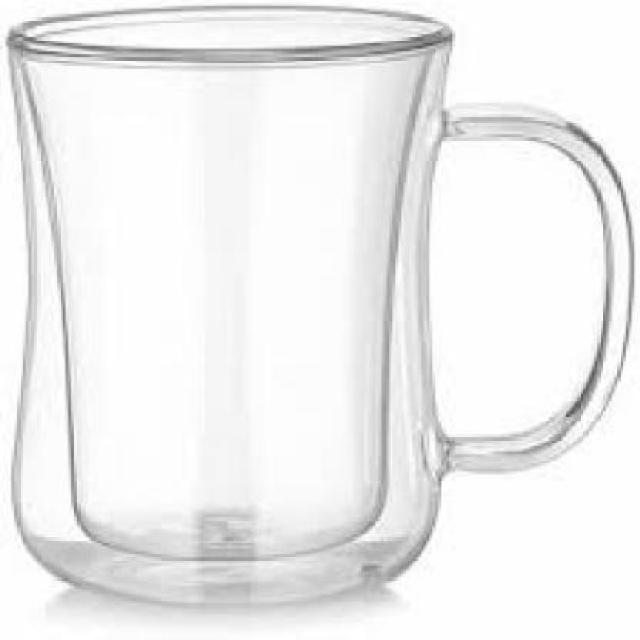kaca: (3, 0, 631, 600)
